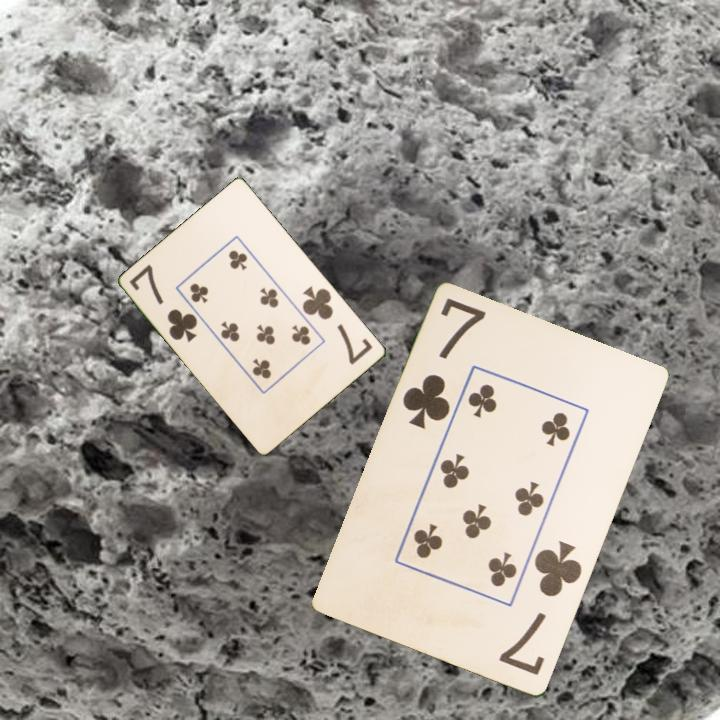7c: (495, 537, 586, 679), (399, 295, 489, 433), (299, 282, 376, 368), (126, 260, 201, 346)
